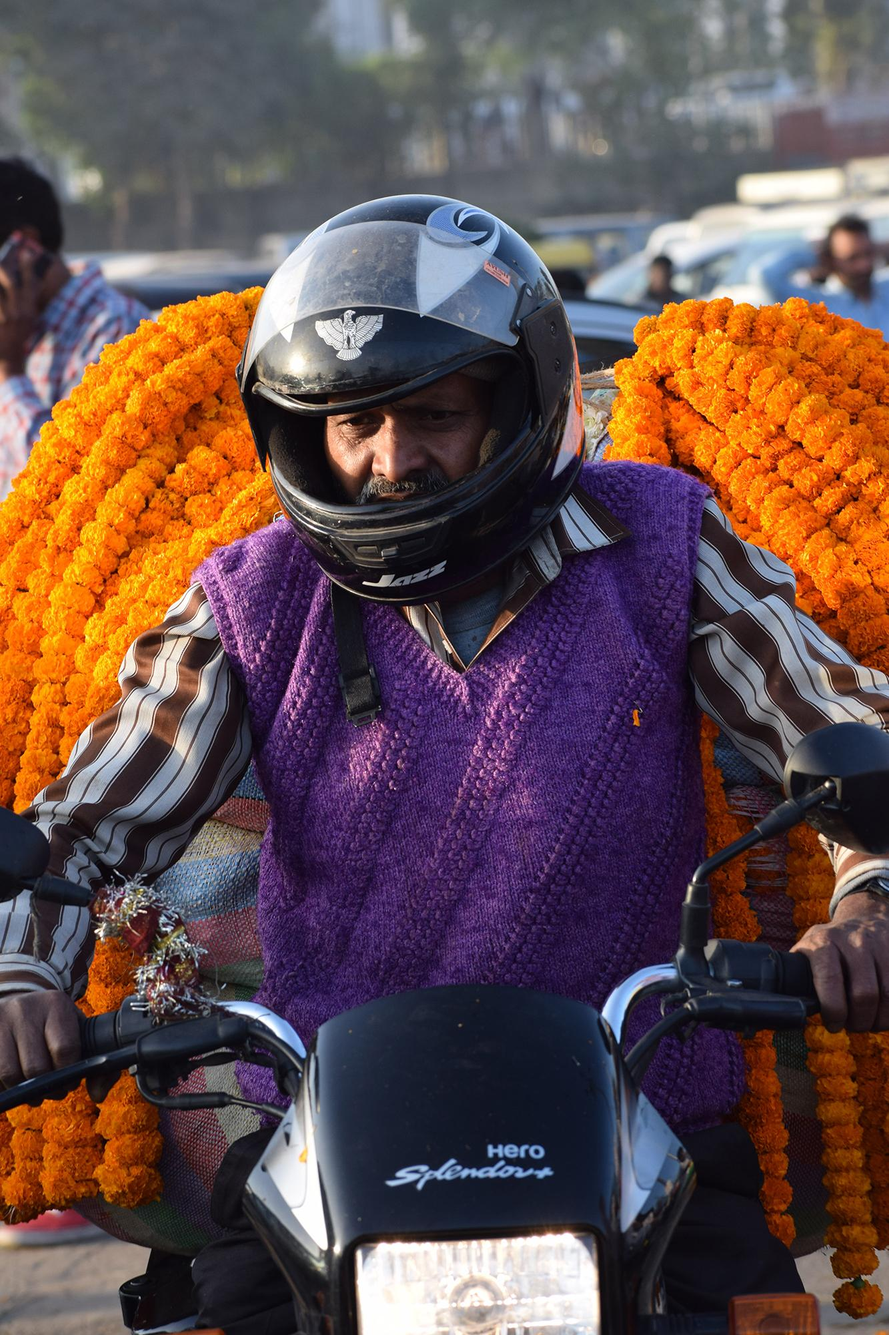helmet: (234, 191, 589, 609)
